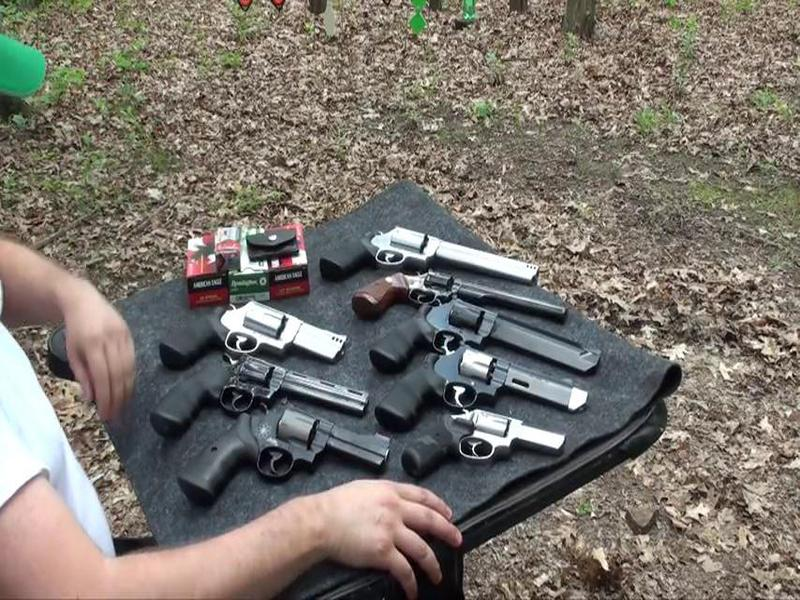Revolver: (173, 397, 387, 510)
